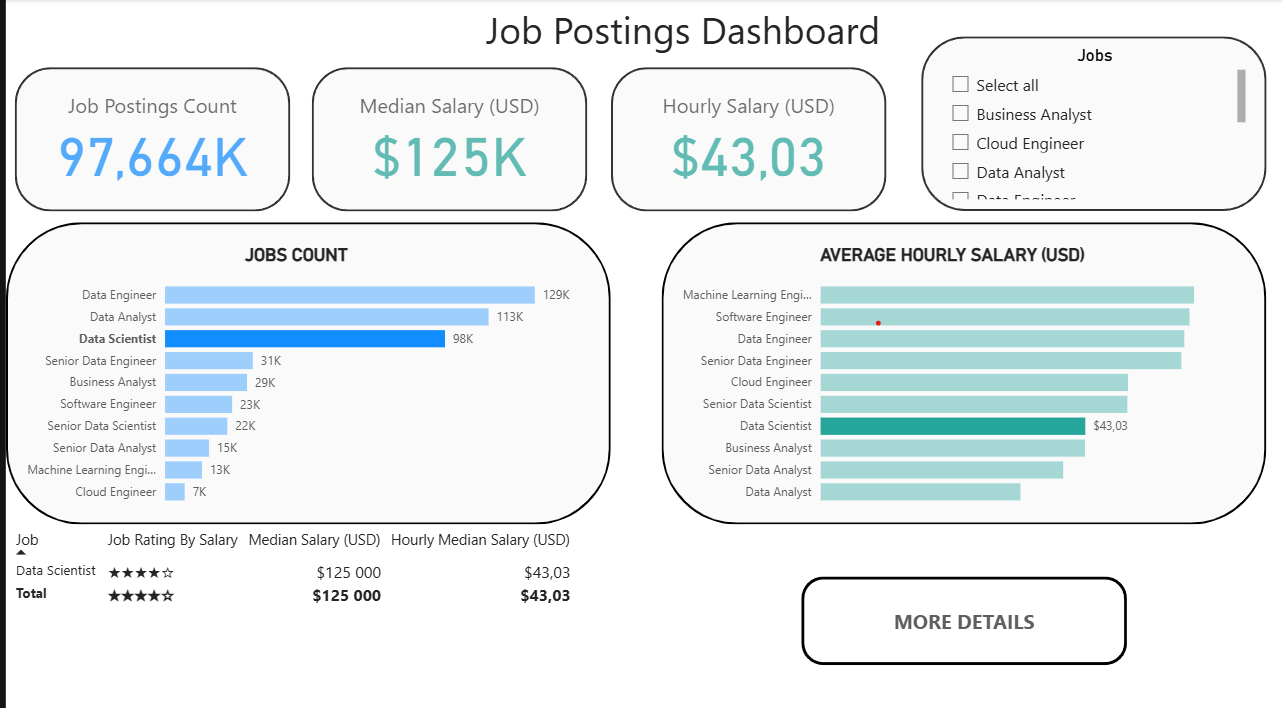

This screenshot's page, from the dashboard's own definition file:
{"tool":"powerbi","page":{"name":"Job Dashboard","canvas":[1280,720],"ordinal":0},"visuals":[{"type":"textbox","box":[9.1,0,872.6,67.9],"z":0},{"type":"shape","box":[917.1,37.9,346.2,175.1],"z":500,"group":"g2"},{"type":"slicer","title":"Jobs","fields":{"Values":["job_postings_flat.job_title_short"]},"box":[935.4,46.4,310.9,159.4],"z":1000,"group":"g2"},{"type":"pivotTable","fields":{"Rows":["job_postings_flat.job_title_short"],"Values":["job_postings_flat.Median of salary_year_avg star rating","Median(job_postings_flat.salary_year_avg)","Median(job_postings_flat.salary_hour_avg)"]},"box":[0,526.5,667.5,193.3],"z":1000},{"type":"group","id":"g1","title":"Group 4","box":[657.1,223.4,606.1,303.1],"z":2000},{"type":"shape","box":[657.1,223.4,606.1,303.1],"z":2500,"group":"g1"},{"type":"group","id":"g2","title":"Group 2","box":[917.1,37.9,346.2,175.1],"z":3000},{"type":"clusteredBarChart","title":"AVERAGE HOURLY SALARY (USD)","fields":{"Category":["job_postings_flat.job_title_short"],"Y":["Median(job_postings_flat.salary_hour_avg)"]},"box":[657.1,245.6,582.6,270.4],"z":3000,"group":"g1"},{"type":"shape","box":[0,223.4,606.1,303.1],"z":4000},{"type":"group","id":"g3","title":"Group 1","box":[606.1,67.9,275.6,145],"z":5000},{"type":"cardVisual","title":"Job Postings Count","fields":{"Data":["CountNonNull(job_postings_flat.job_title_short)"]},"box":[9.1,67.9,276.1,144.7],"z":6000,"group":"g5"},{"type":"cardVisual","title":"Job Postings Count","fields":{"Data":["Median(job_postings_flat.salary_year_avg)"]},"box":[307,67.9,276.1,144.7],"z":6000,"group":"g4"},{"type":"cardVisual","title":"Job Postings Count","fields":{"Data":["Median(job_postings_flat.salary_hour_avg)"]},"box":[606.1,67.9,276.1,144.7],"z":6000,"group":"g3"},{"type":"clusteredBarChart","title":"JOBS COUNT","fields":{"Category":["job_postings_flat.job_title_short"],"Y":["CountNonNull(job_postings_flat.job_title_short)"]},"box":[0,245.6,582.6,270.4],"z":6000},{"type":"shape","box":[9.1,67.9,276.1,144.7],"z":6500,"group":"g5"},{"type":"shape","box":[307,67.9,276.1,144.7],"z":6500,"group":"g4"},{"type":"shape","box":[606.1,67.9,276.1,144.7],"z":6500,"group":"g3"},{"type":"group","id":"g4","title":"Group 1","box":[307,67.9,275.6,145],"z":7000},{"type":"group","id":"g5","title":"Group 1","box":[9.1,67.9,275.6,145],"z":8000},{"type":"actionButton","box":[796.9,578.7,326.6,88.8],"z":9000}]}

Visuals, with their boxes in screenshot pixels (x1, y1, x2, y2), scaled from the page's 1280x720 canvas onto the 1282x708 screenshot:
textbox: 9,0,883,67
shape: 919,37,1265,209
"Jobs" slicer: 937,46,1248,202
pivotTable - job_postings_flat.job_title_short x job_postings_flat.Median of salary_year_avg star rating: 0,518,669,707
"Group 4" group: 658,220,1265,518
shape: 658,220,1265,518
"Group 2" group: 919,37,1265,209
"AVERAGE HOURLY SALARY (USD)" clusteredBarChart: 658,242,1242,507
shape: 0,220,607,518
"Group 1" group: 607,67,883,209
"Job Postings Count" cardVisual: 9,67,286,209
"Job Postings Count" cardVisual: 307,67,584,209
"Job Postings Count" cardVisual: 607,67,884,209
"JOBS COUNT" clusteredBarChart: 0,242,584,507
shape: 9,67,286,209
shape: 307,67,584,209
shape: 607,67,884,209
"Group 1" group: 307,67,584,209
"Group 1" group: 9,67,285,209
actionButton: 798,569,1125,656
